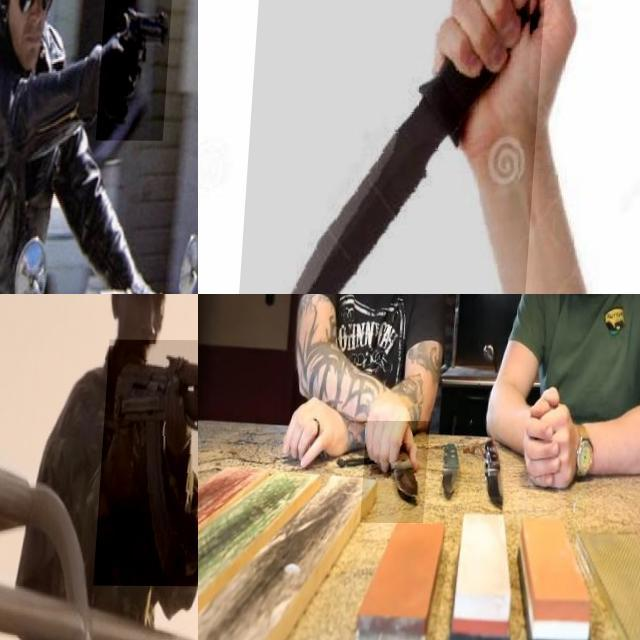-: (242, 0, 548, 294), (367, 420, 436, 522)
gun-knife-thesis - v11 Yolov5 augmented: (100, 339, 198, 586), (101, 0, 176, 140)
